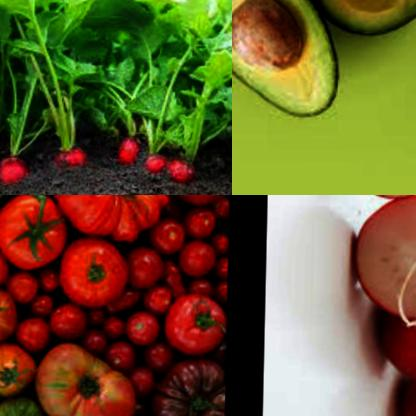avocado: (232, 0, 365, 161), (307, 0, 416, 43)
rediska: (347, 195, 416, 325), (372, 302, 416, 381), (51, 140, 92, 171), (0, 153, 33, 187), (167, 154, 203, 185), (116, 132, 143, 164), (138, 151, 172, 175)
tomato: (12, 294, 164, 354), (141, 206, 231, 304), (37, 343, 139, 416), (56, 235, 134, 307), (60, 195, 174, 241), (0, 195, 68, 265), (162, 290, 229, 359), (154, 367, 227, 416), (0, 246, 59, 299), (0, 337, 42, 401), (0, 288, 22, 351), (0, 394, 56, 416)
